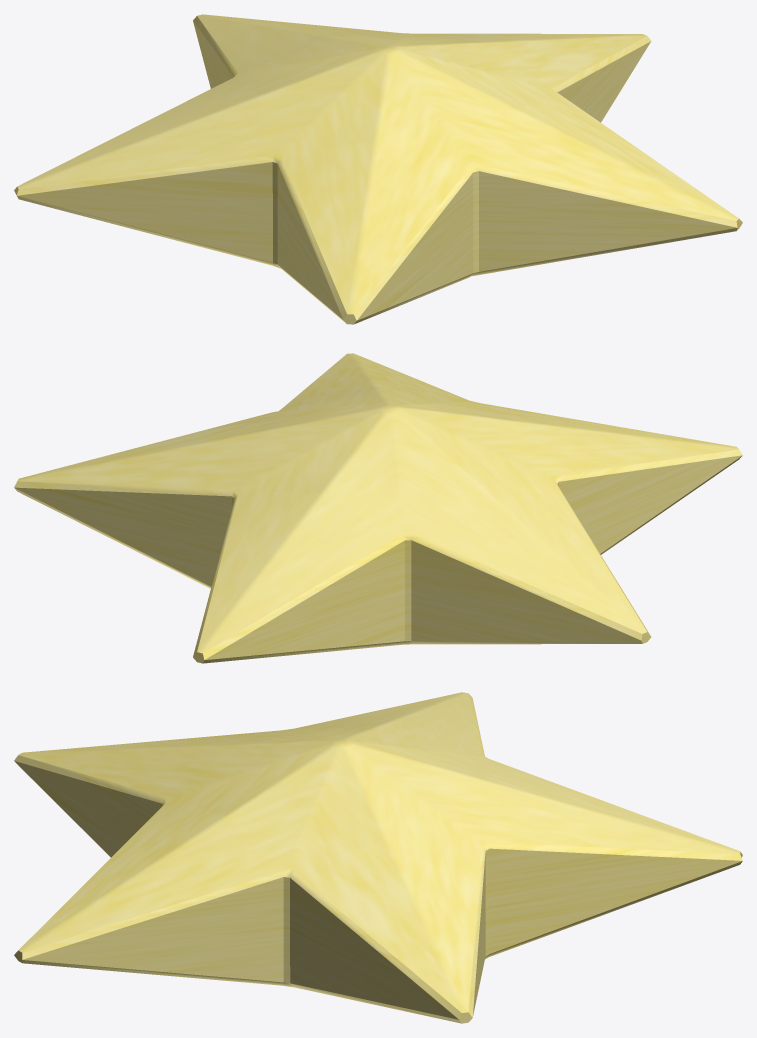
Rendered from friend_ver3.fbx.
3 views of the same model, one above another, from view 1: azimuth 30°, elevation 25°; view 2: azimuth 150°, elevation 25°; view 3: azimuth 270°, elevation 25° (orthographic). The views are drawn at different scales.
Visible parts, largest first — view 1: pCylinder1; view 2: pCylinder1; view 3: pCylinder1.
Part boxes in pixels (box(x1,y1,x2,y2)): pCylinder1: box(14, 14, 742, 324); pCylinder1: box(14, 353, 742, 663); pCylinder1: box(14, 692, 742, 1023).
Bounding box in the file's own units: 18.29 × 6.03 × 17.39.
